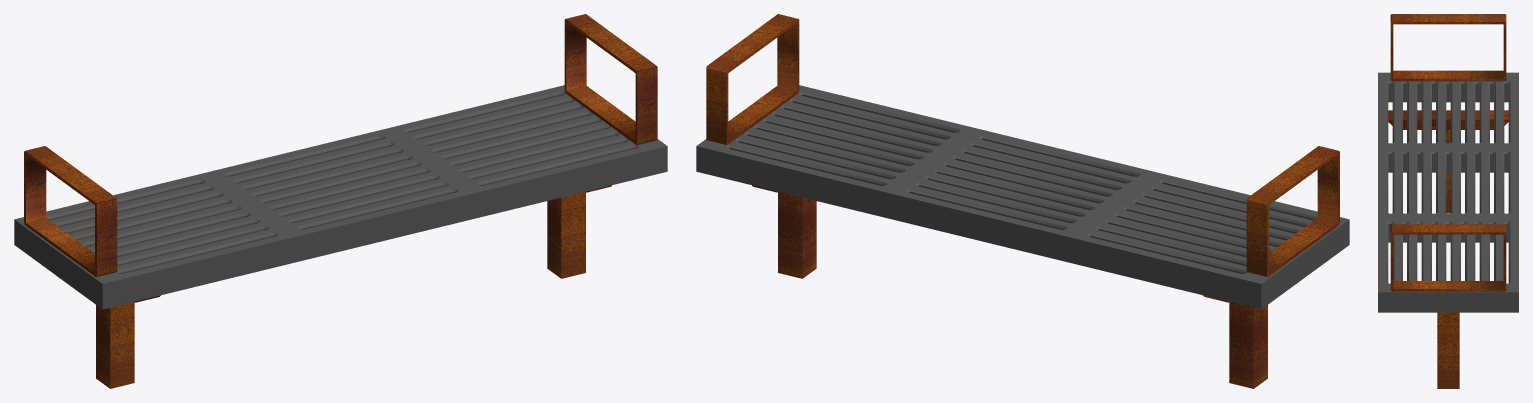
3 renders of one model, left to right at view 1: azimuth 30°, elevation 25°; view 2: azimuth 150°, elevation 25°; view 3: azimuth 270°, elevation 25°, orthographic. The views are drawn at different scales.
Parts seen in each view (by area): view 1: mesh1_mesh1-geometry, mesh61_mesh61-geometry, mesh59_mesh59-geometry; view 2: mesh1_mesh1-geometry, mesh61_mesh61-geometry, mesh59_mesh59-geometry; view 3: mesh1_mesh1-geometry, mesh61_mesh61-geometry, mesh59_mesh59-geometry, mesh57_mesh57-geometry.
Boxes of the visible parts, box(x1,y1,x2,y2) form: mesh1_mesh1-geometry: box(14, 85, 667, 309); mesh61_mesh61-geometry: box(24, 14, 657, 276); mesh59_mesh59-geometry: box(96, 192, 585, 388); mesh1_mesh1-geometry: box(696, 85, 1349, 309); mesh61_mesh61-geometry: box(706, 14, 1339, 276); mesh59_mesh59-geometry: box(778, 192, 1267, 388); mesh1_mesh1-geometry: box(1378, 72, 1518, 312); mesh61_mesh61-geometry: box(1390, 14, 1506, 291); mesh59_mesh59-geometry: box(1437, 130, 1459, 388); mesh57_mesh57-geometry: box(1388, 110, 1508, 129).
Bounding box in the file's own units: 0.9096 × 0.3346 × 0.2462.
